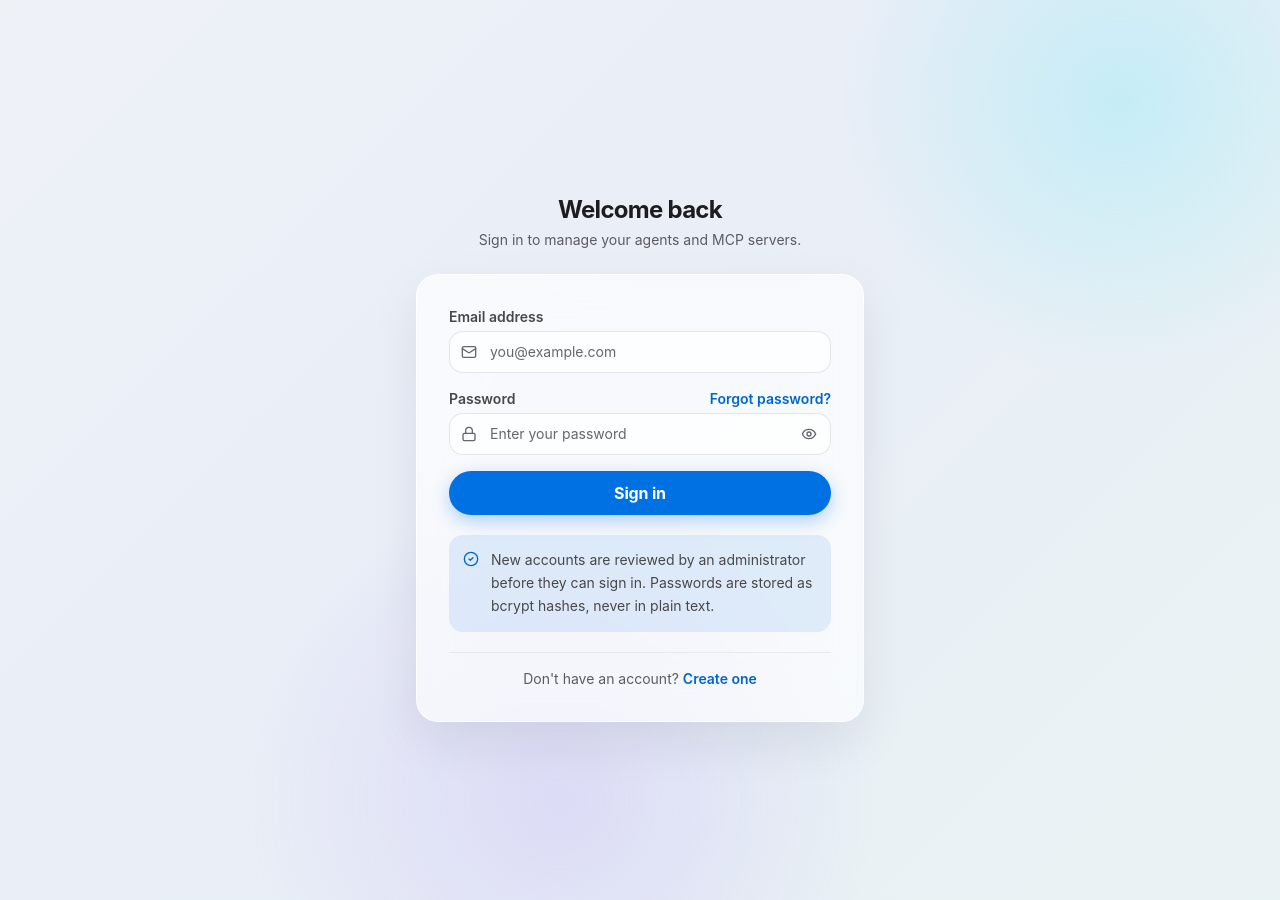
Test: sign-in failures › keeps the alert until the next submit
Type "person@example.test" into the field labelled "Email address" at (640, 352), box [449,331,831,373]
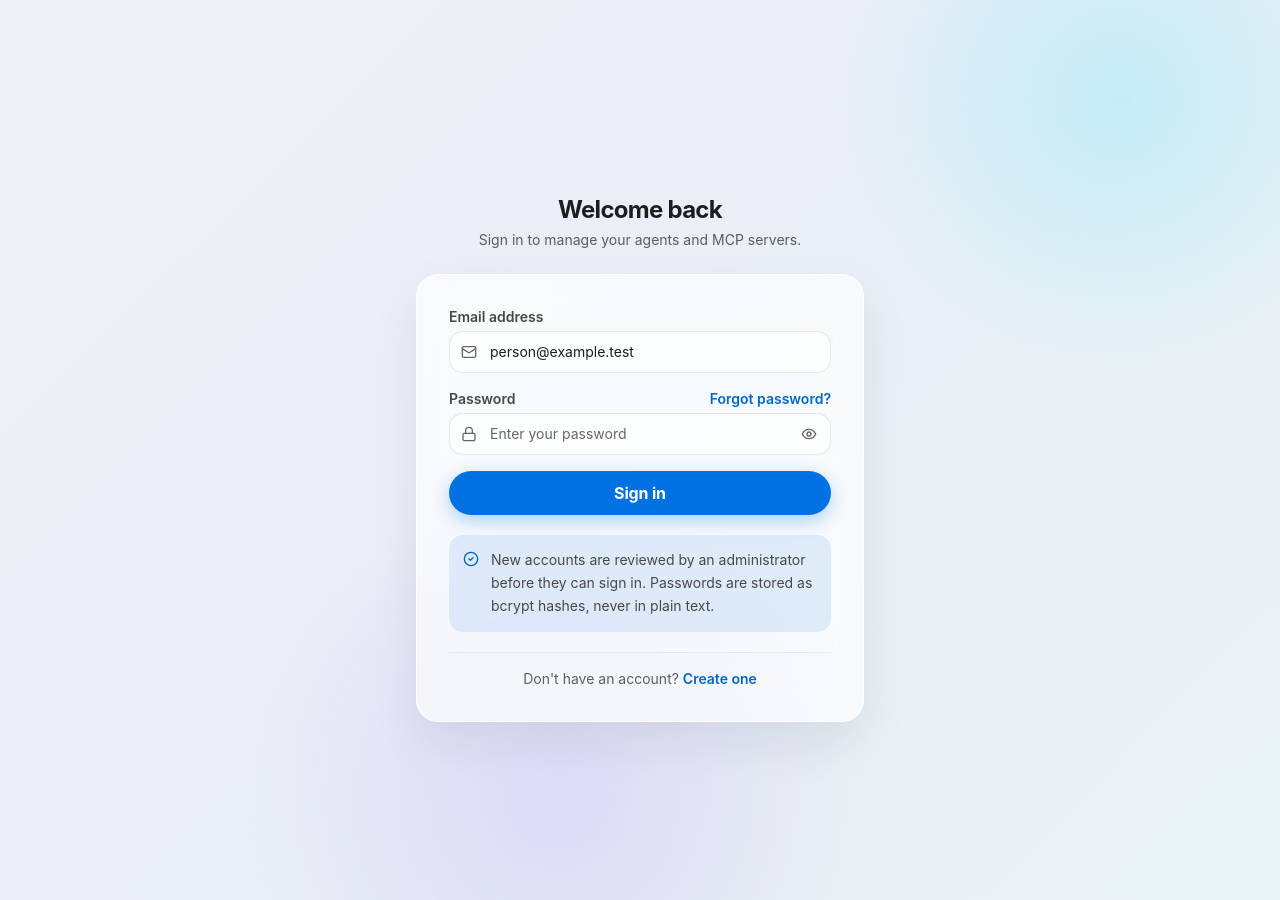
Type "not-the-password" into the password field labelled "Password" at (640, 434), box [449,413,831,455]
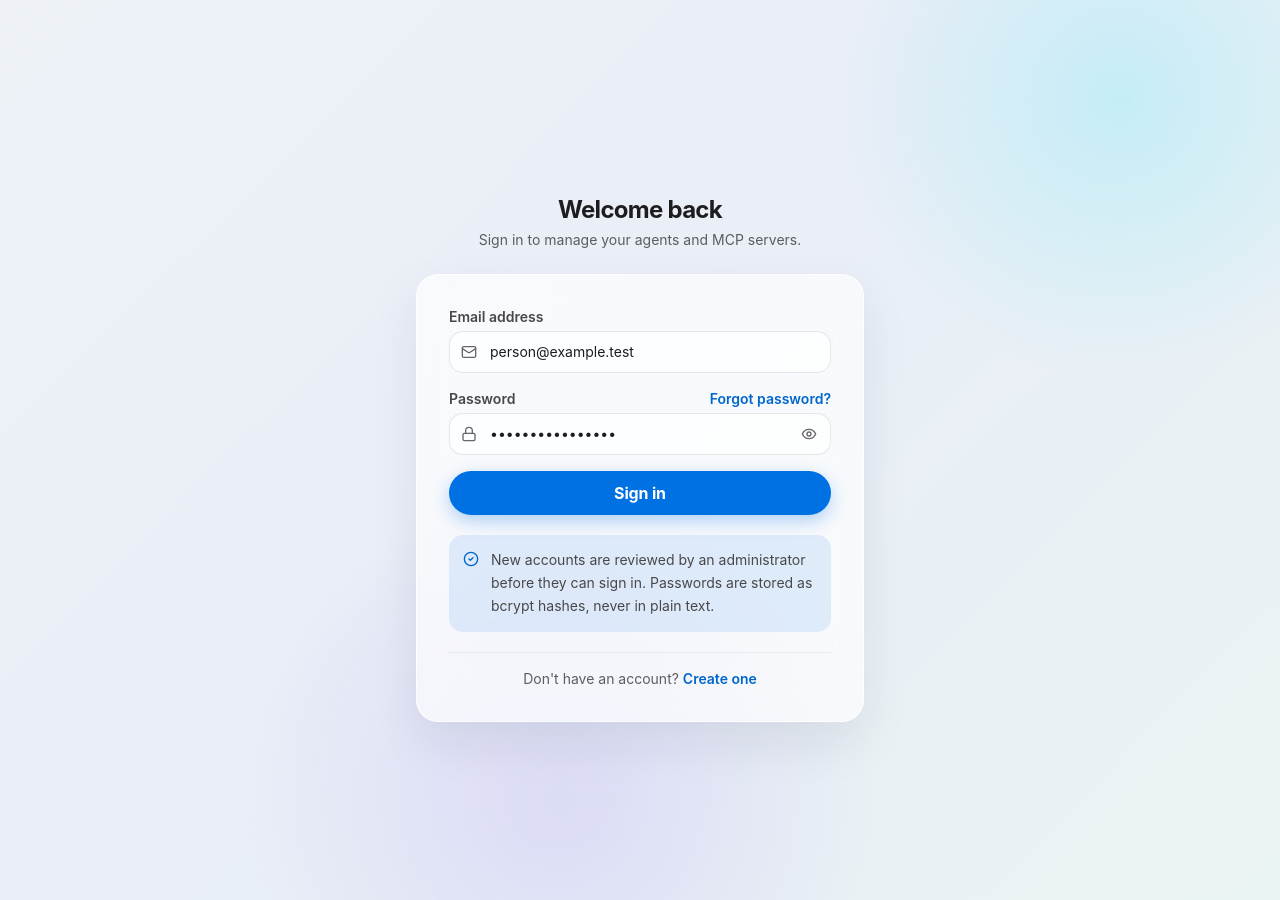
Click the button "Sign in" at (640, 493), box [449,471,831,515]
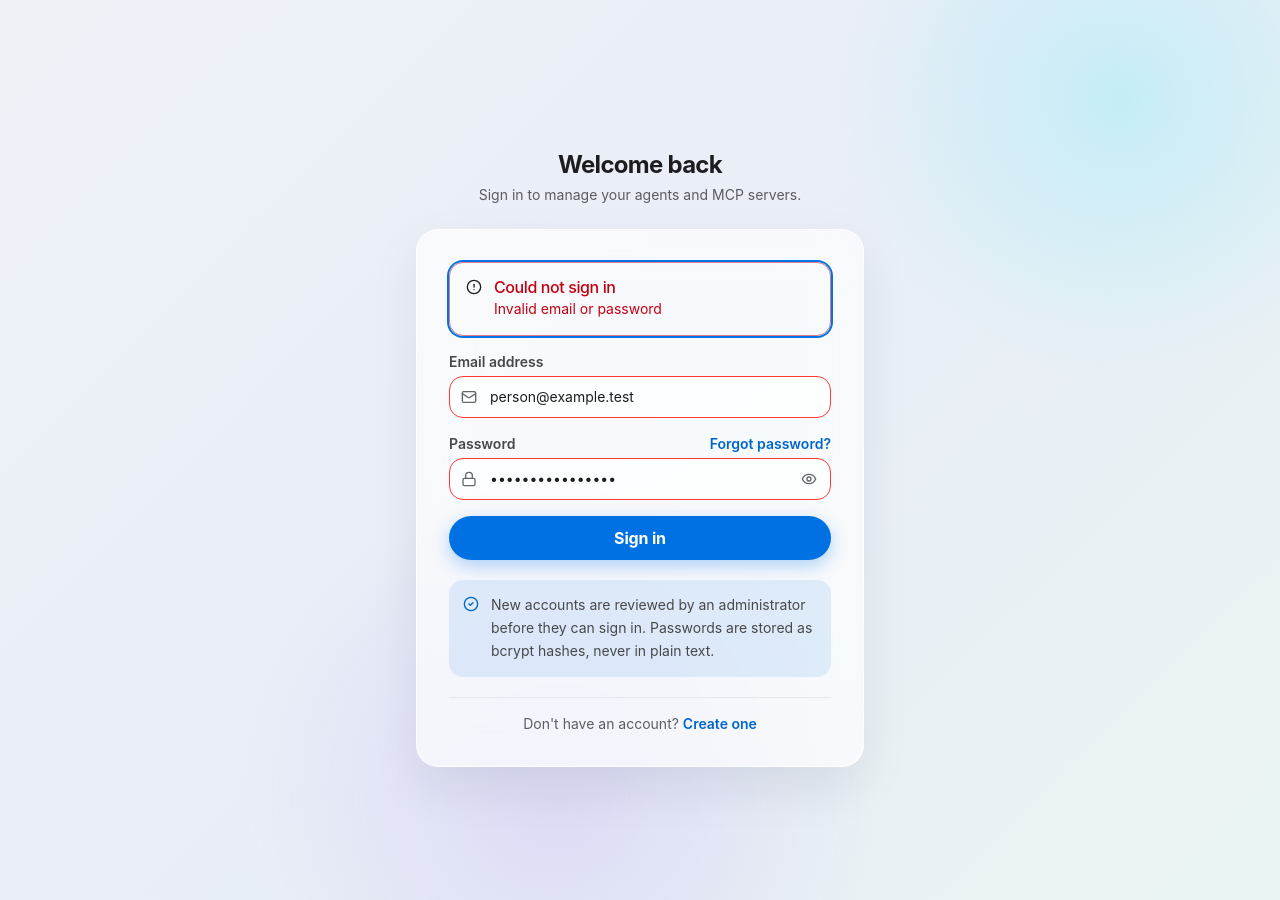
Expected: the message "Could not sign in Invalid email or password" is shown, [449,262,831,336]
Type "another-try" into the password field labelled "Password" at (640, 479), box [449,458,831,500]
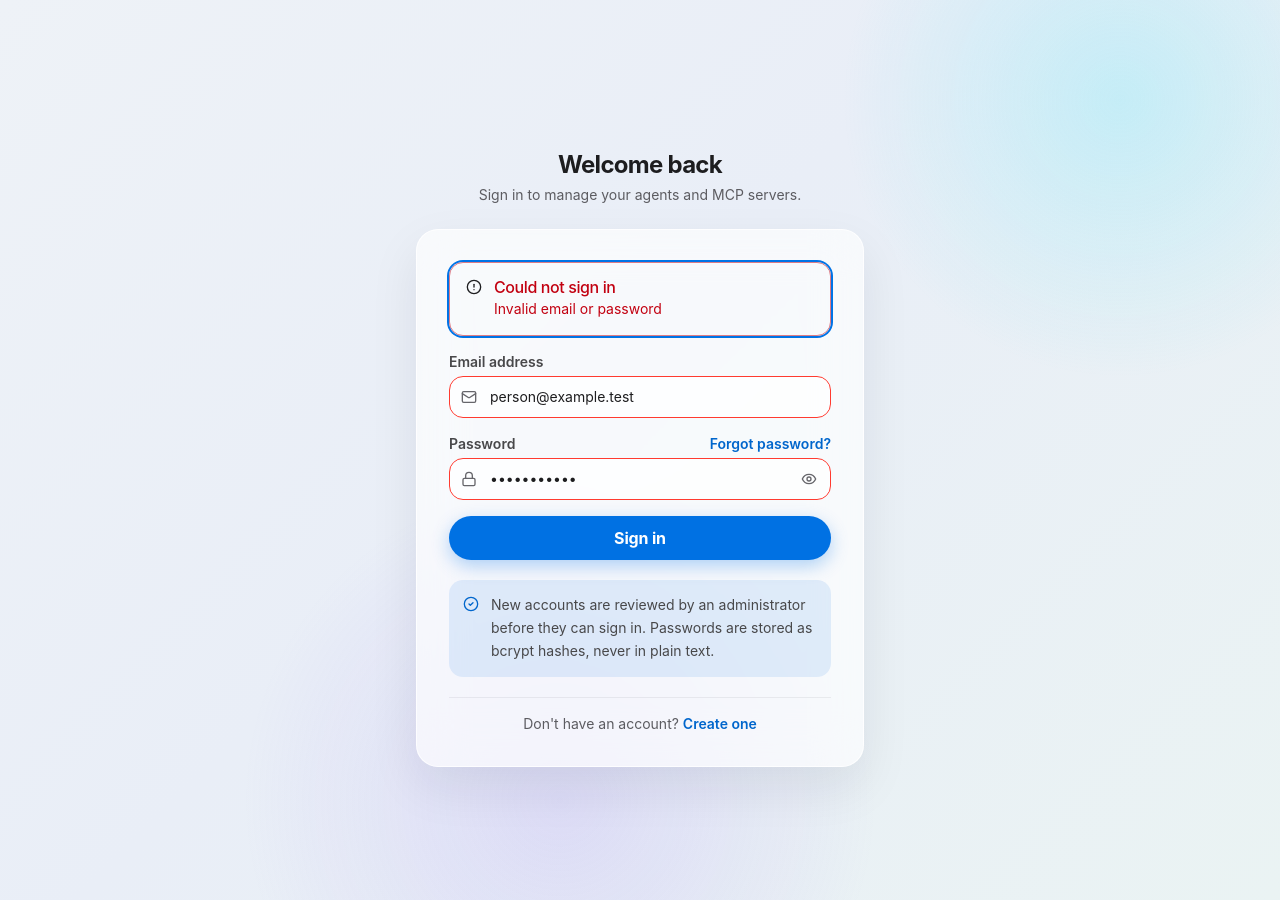
Expected: the message "Could not sign in Invalid email or password" is shown, [449,262,831,336]
Click the button "Sign in" at (640, 538), box [449,516,831,560]
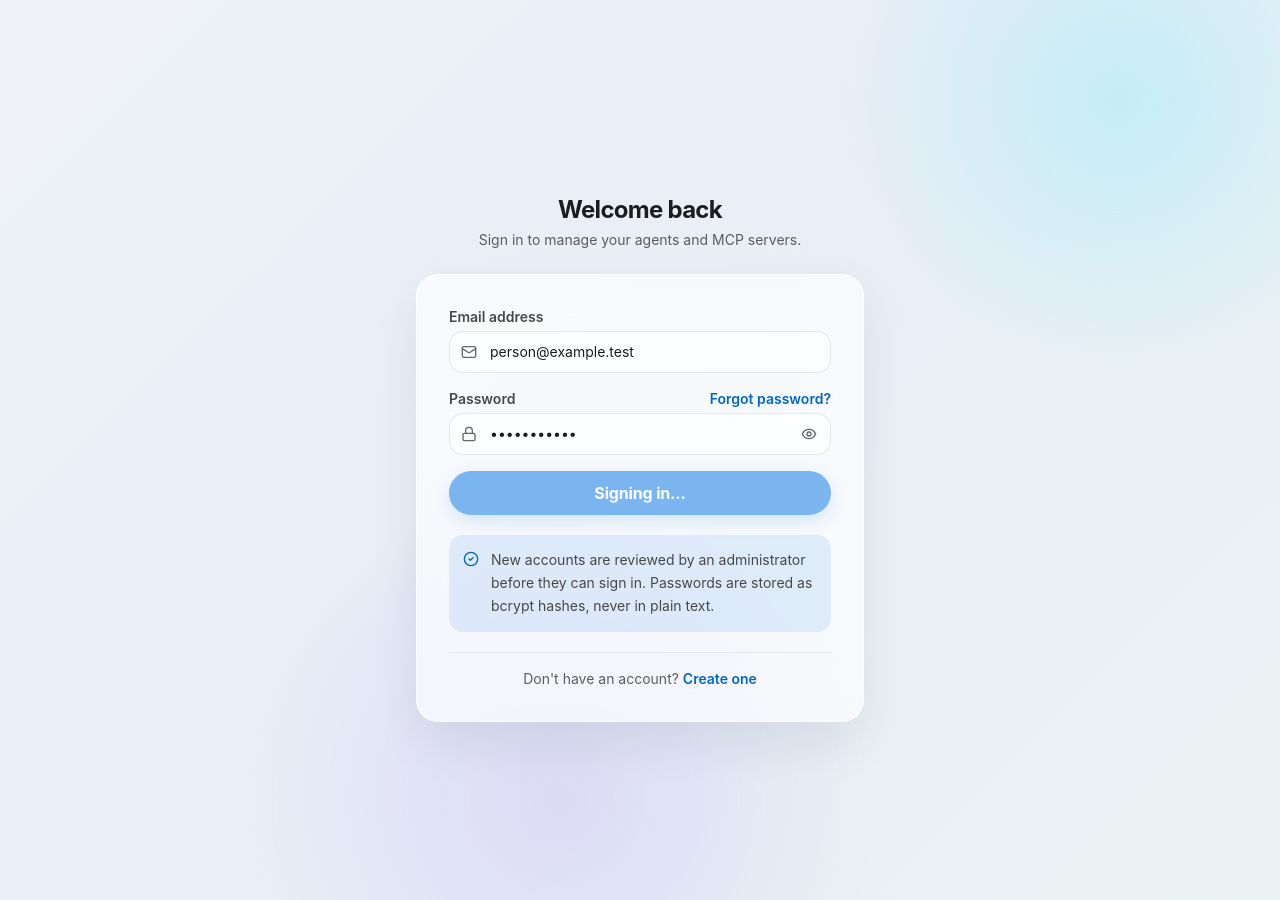
Expected: the message "Could not sign in Invalid email or password" is gone
